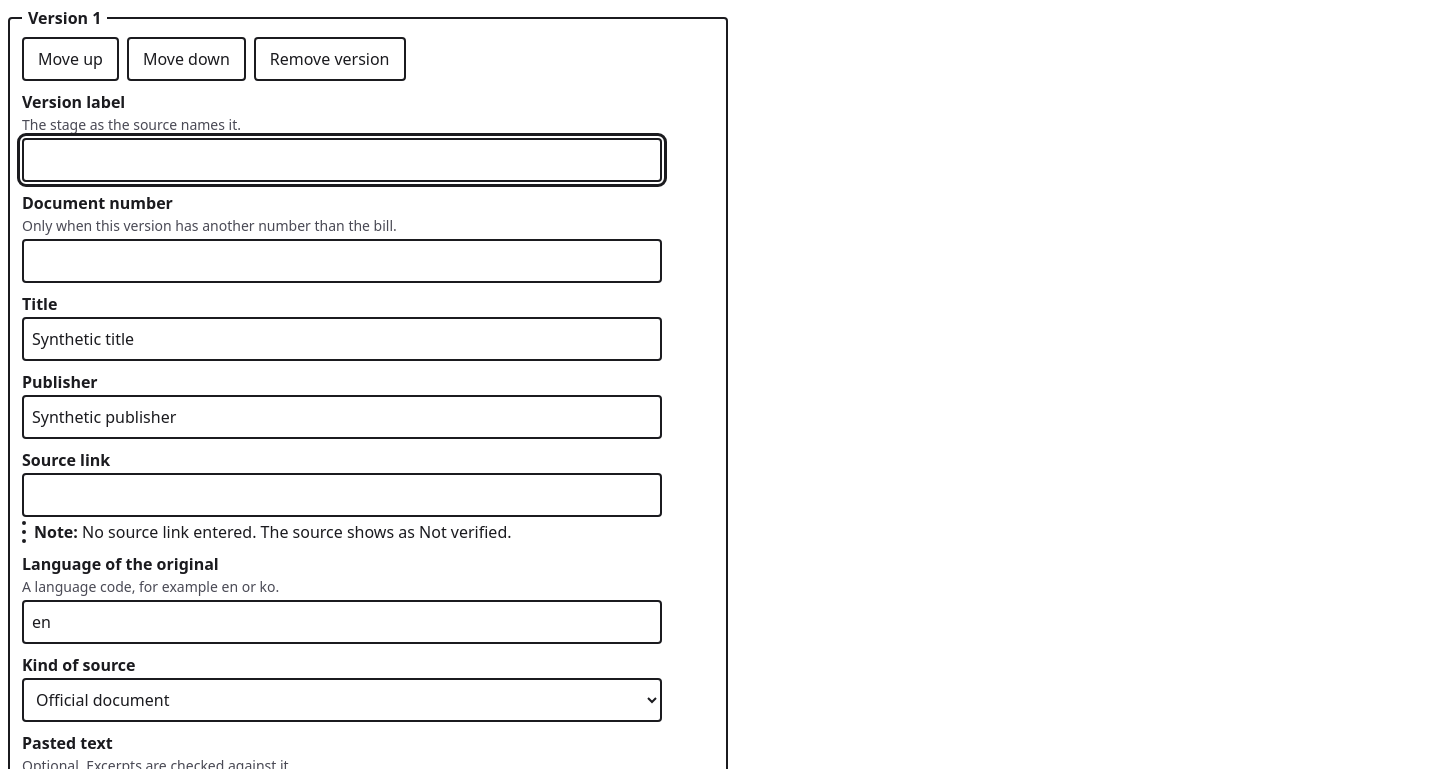
Test: the form › says when an excerpt is not in the pasted text, next to the excerpt, and leaves that clause out
The image size is (1440, 769).
Earlier steps of the test are not shown.
(page scrolled)
Step 1. Type "https://example.org/a" into the field labelled "Source link" → (342,495), box top-left (22, 473), bottom-right (662, 517)
(page scrolled)
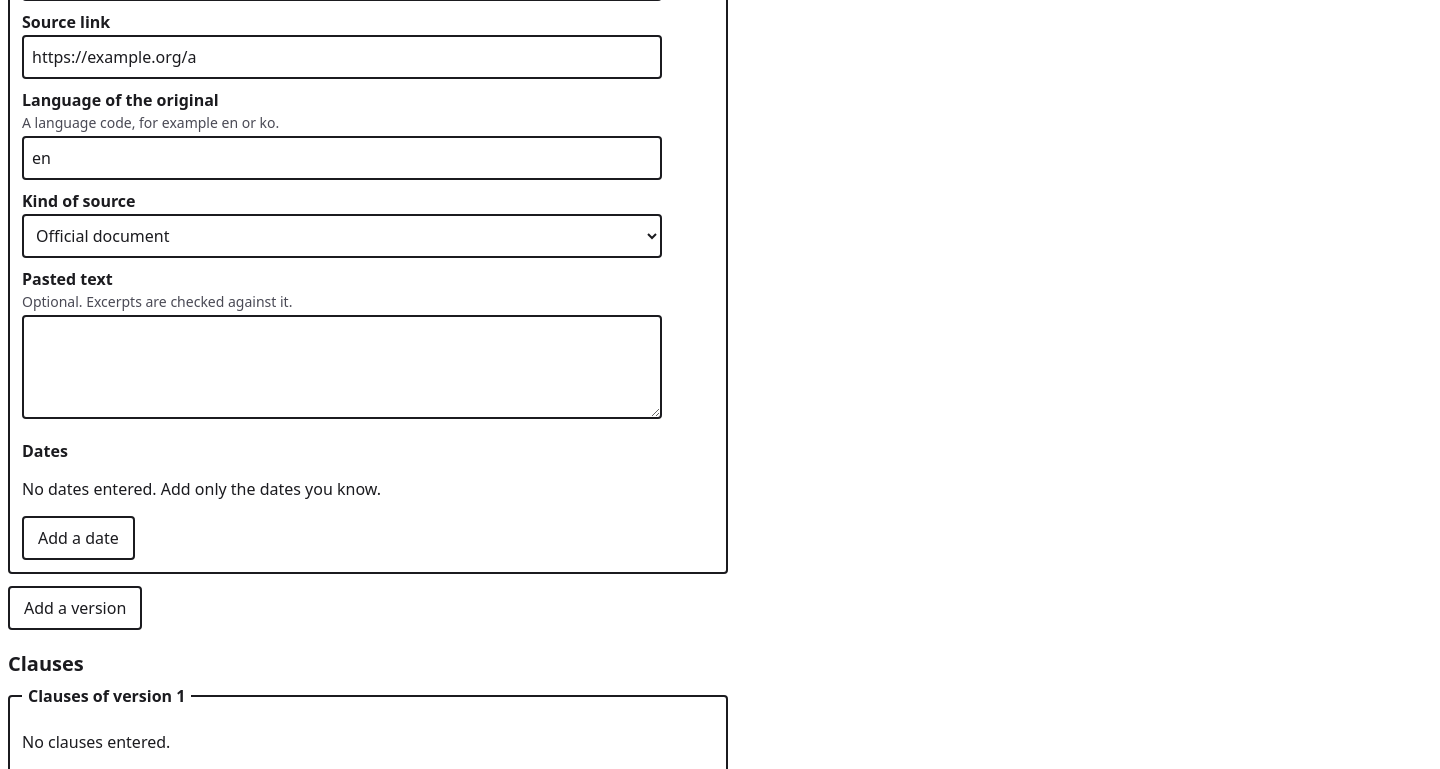
Step 2. Type "alpha beta" into the text box labelled "Pasted text" → (342,367), box top-left (22, 315), bottom-right (662, 419)
(page scrolled)
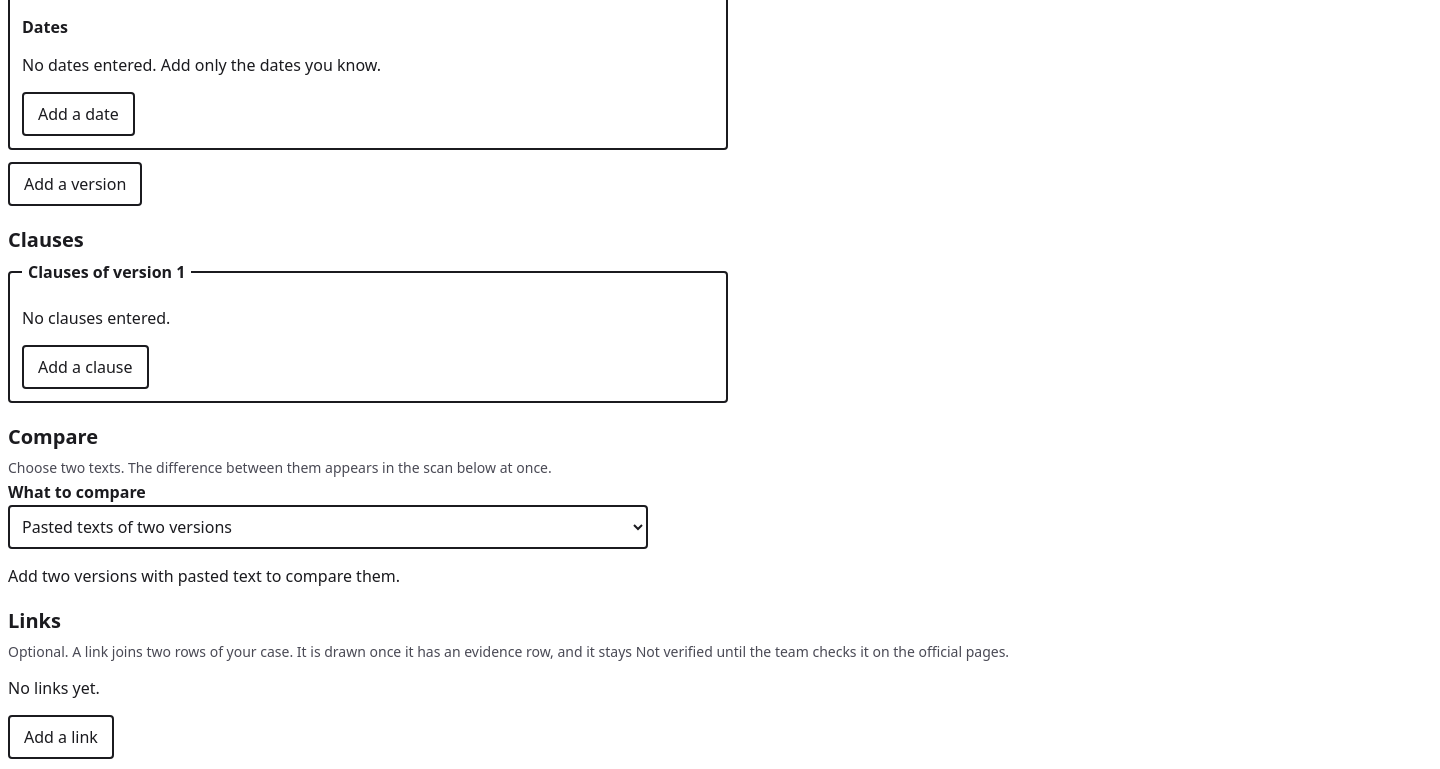
Step 3. Click the button named "Add a clause (version 1)" → (85,367), box top-left (22, 345), bottom-right (149, 389)
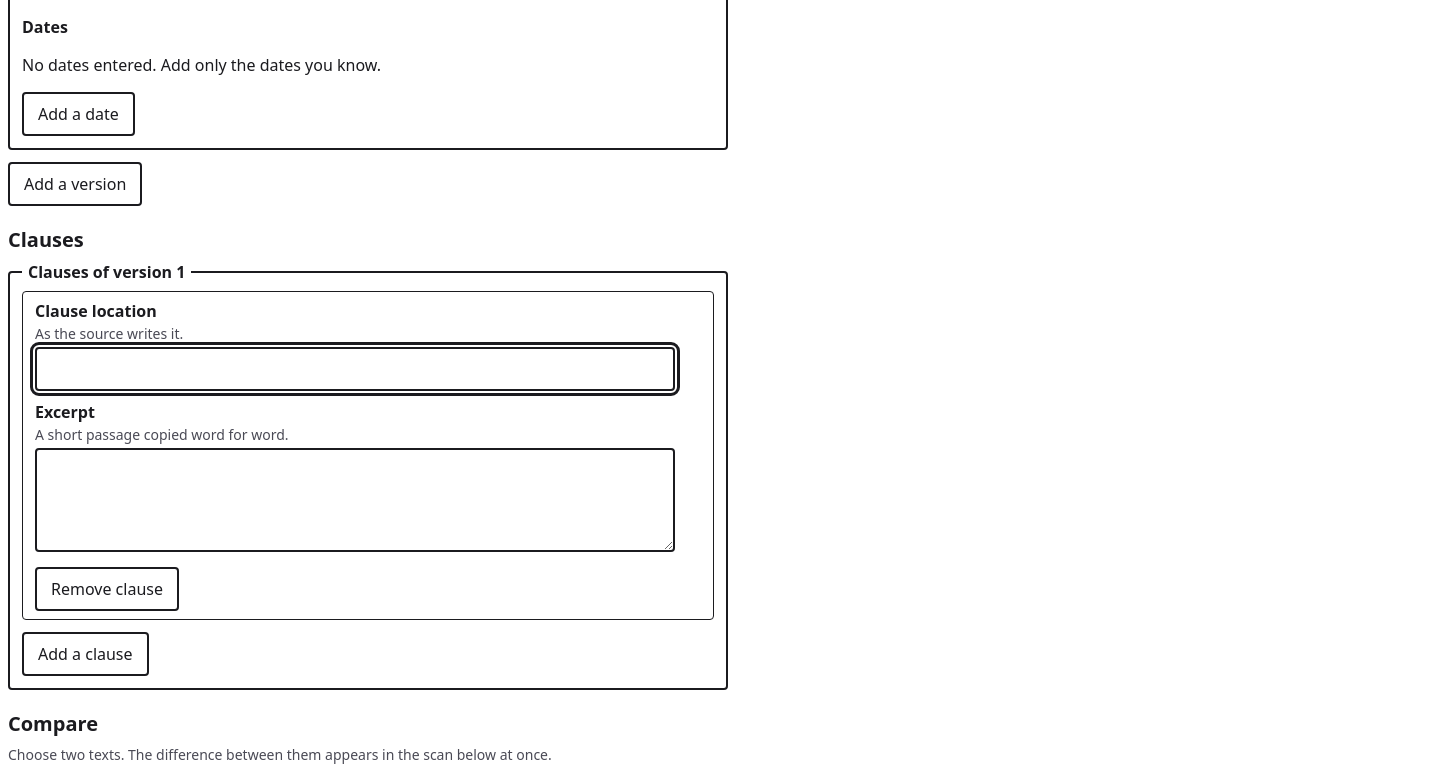
Step 4. Type "Sec. 1" into the field labelled "Clause location" → (355,369), box top-left (35, 347), bottom-right (675, 391)
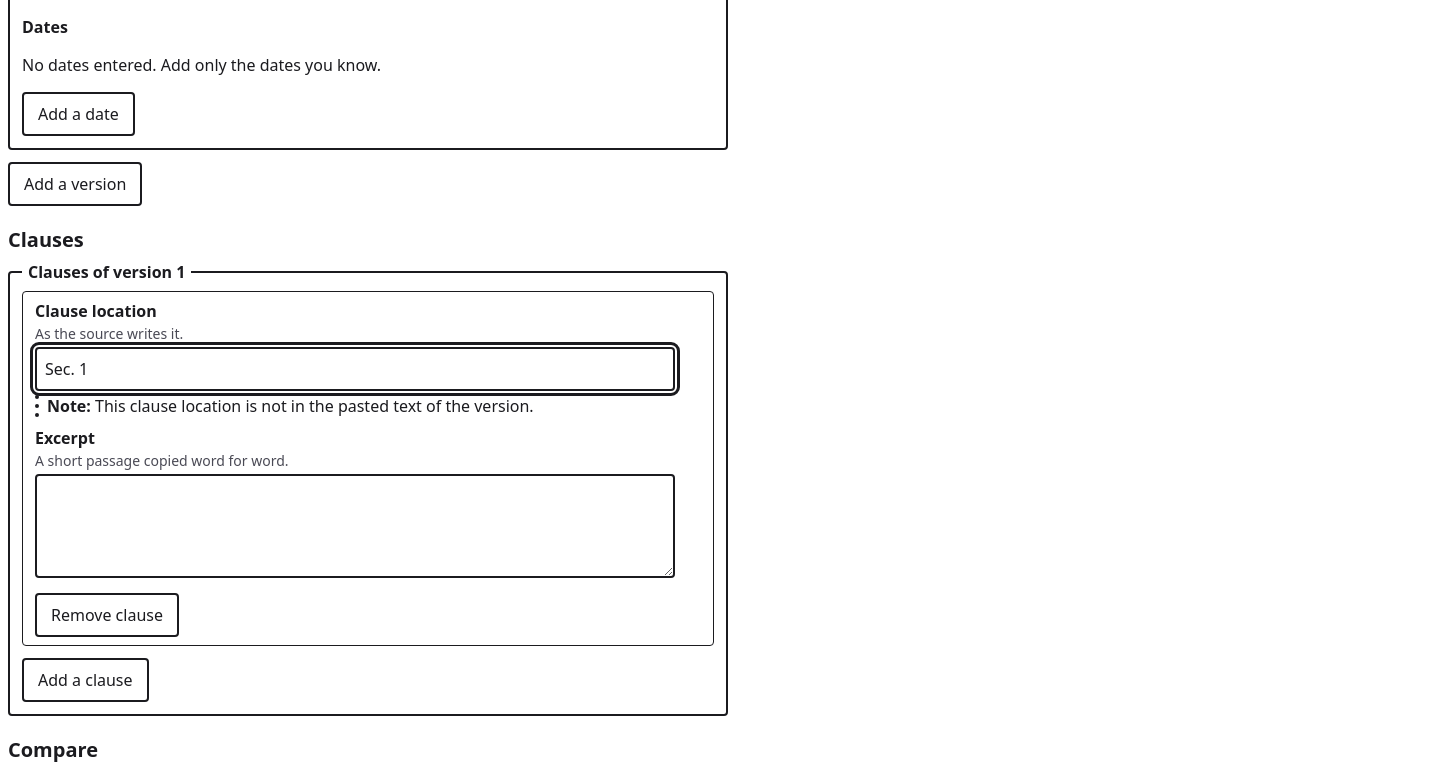
Step 5. Type "gamma" into the text box labelled "Excerpt" → (355,526), box top-left (35, 474), bottom-right (675, 578)
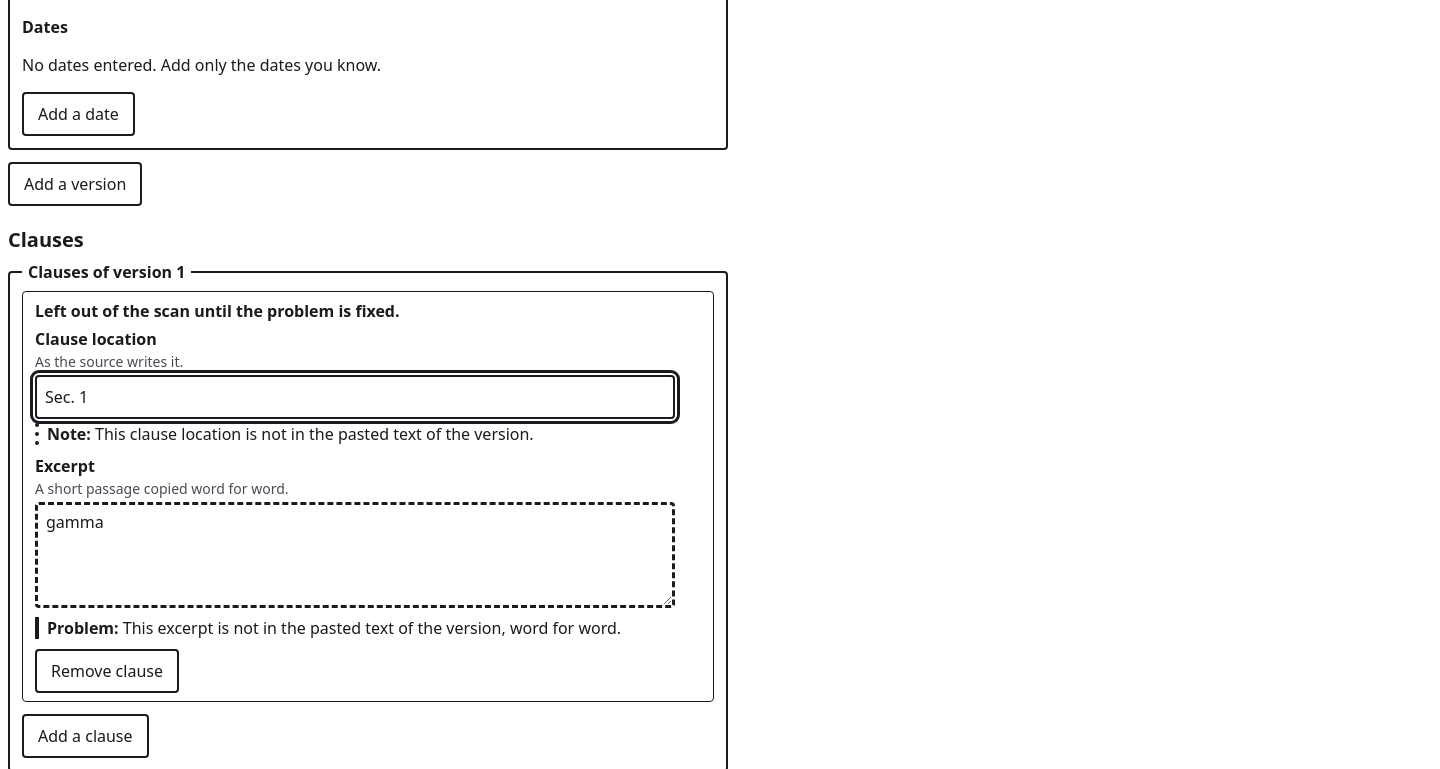
Check: the text "Left out of the scan until the problem is fixed." is shown, box top-left (35, 300), bottom-right (400, 322)
Step 6. Replace the text in the text box labelled "Excerpt" with "alpha" → (355,555), box top-left (35, 502), bottom-right (675, 608)
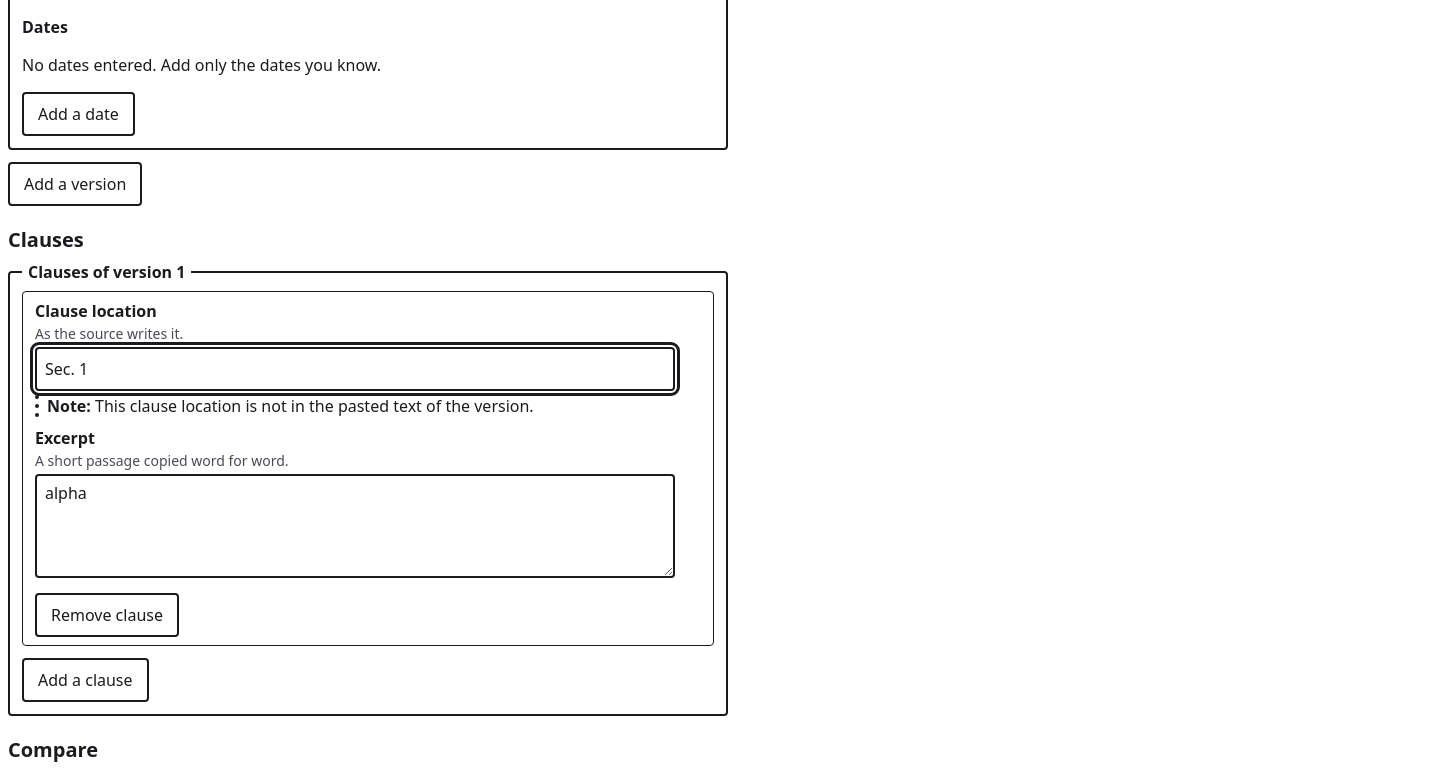
Check: the text "Left out of the scan until the problem is fixed." is gone
